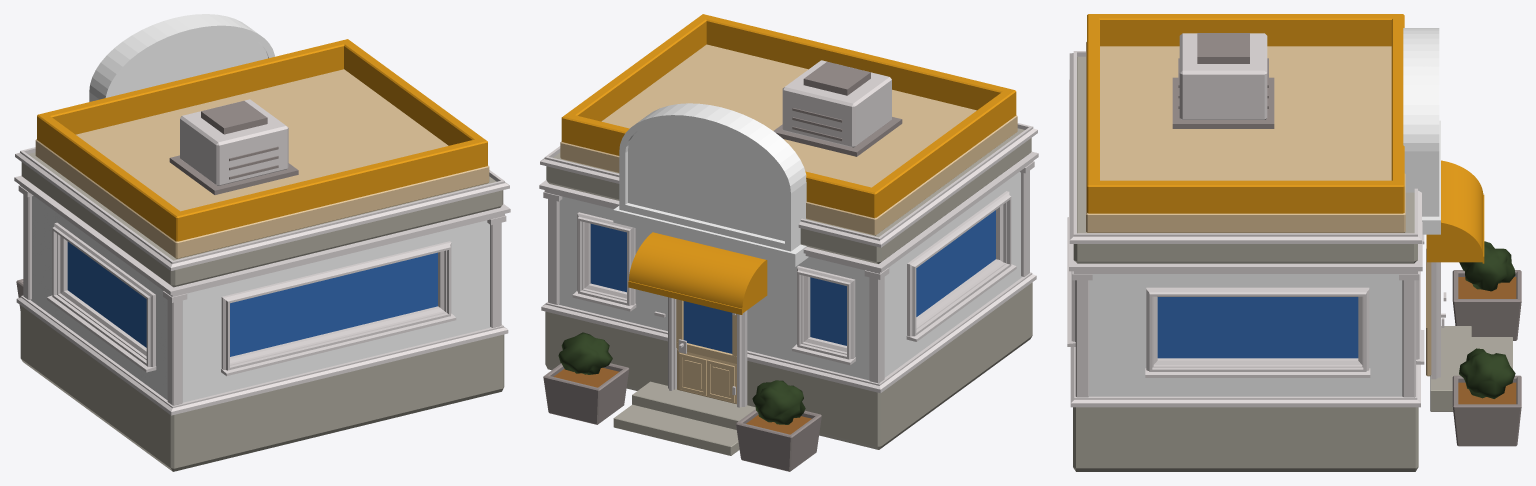
File: BGStore001_JC.fbx
3 views of the same model, side by side, from view 1: azimuth 30°, elevation 25°; view 2: azimuth 150°, elevation 25°; view 3: azimuth 270°, elevation 25° (orthographic). The views are drawn at different scales.
Parts seen in each view (by area): view 1: BGStore001_JC; view 2: BGStore001_JC; view 3: BGStore001_JC.
Part boxes in pixels (left/top/right/bottom): BGStore001_JC: left=14, top=14, right=510, bottom=471; BGStore001_JC: left=539, top=14, right=1038, bottom=471; BGStore001_JC: left=1067, top=14, right=1521, bottom=471.
Bounding box in the file's own units: 795 × 659 × 808.
Materials: 1 (1 with a texture image).
